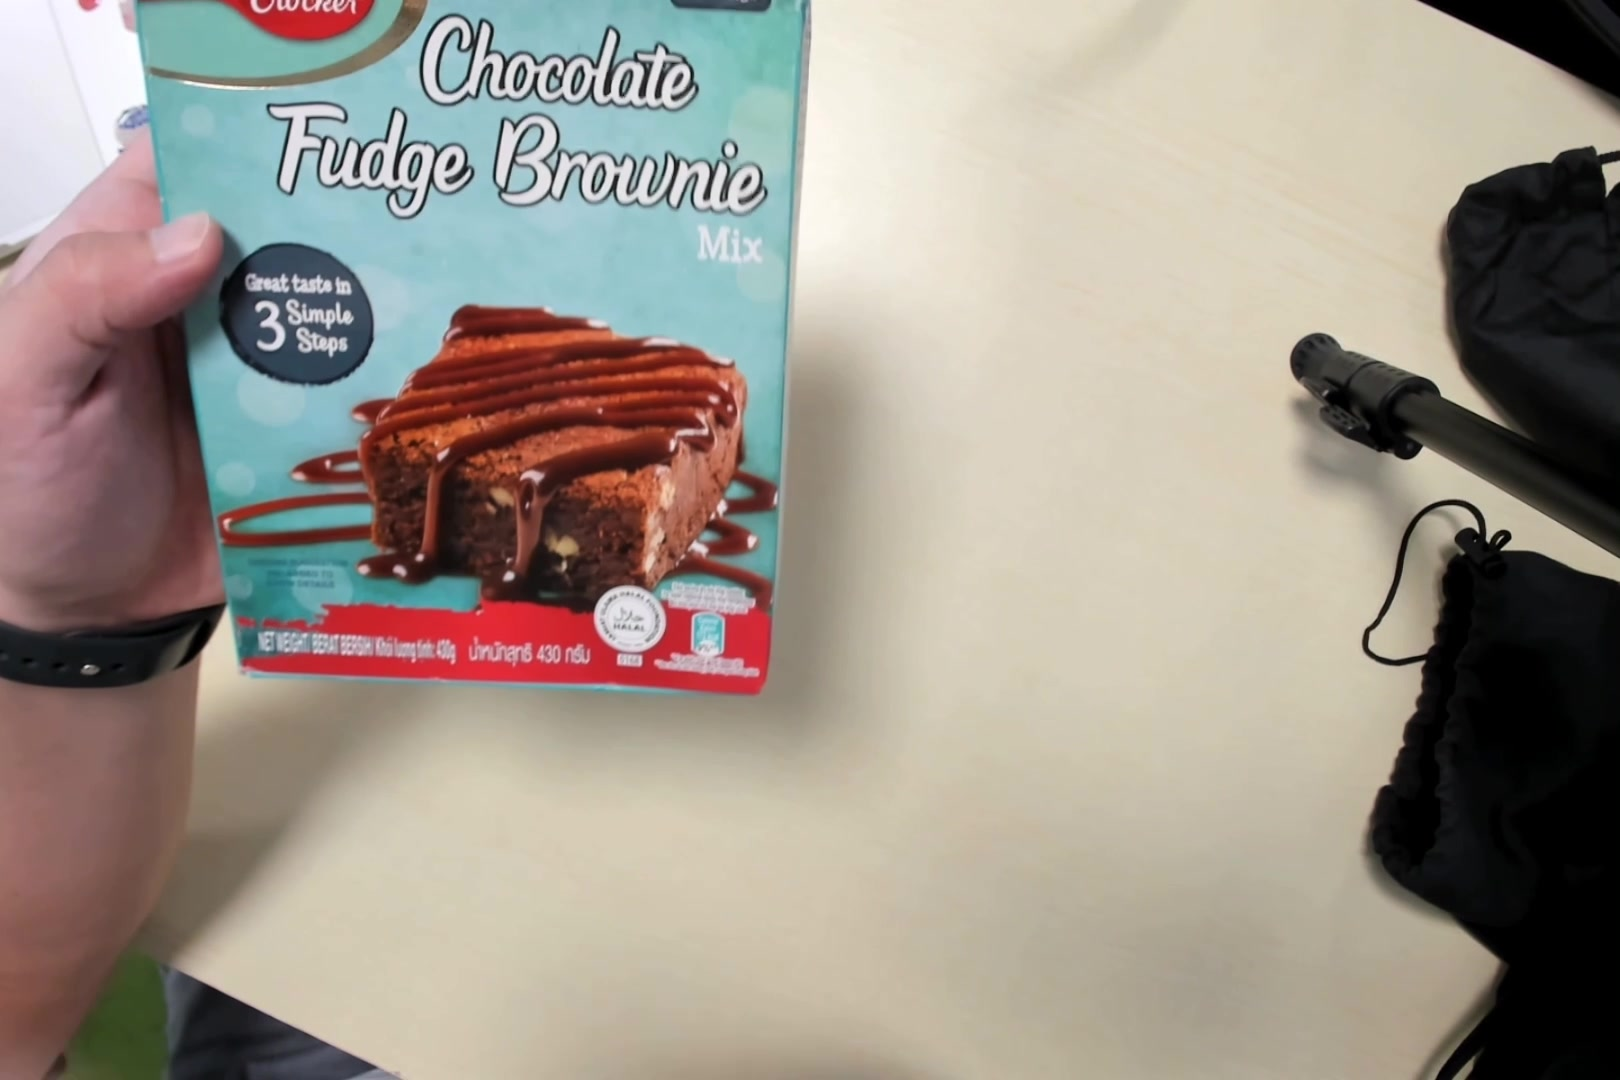OtherBakingNeeds_400-499g_Halal_NonHealthy: (135, 4, 804, 692)
